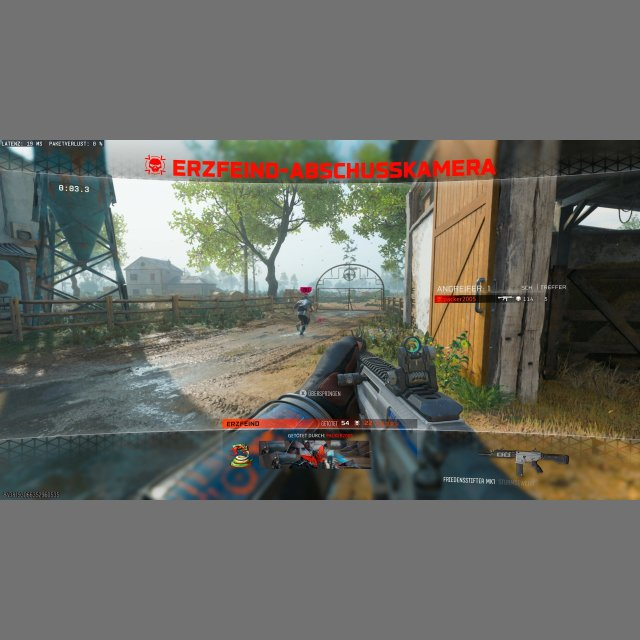player: (295, 295, 313, 336)
